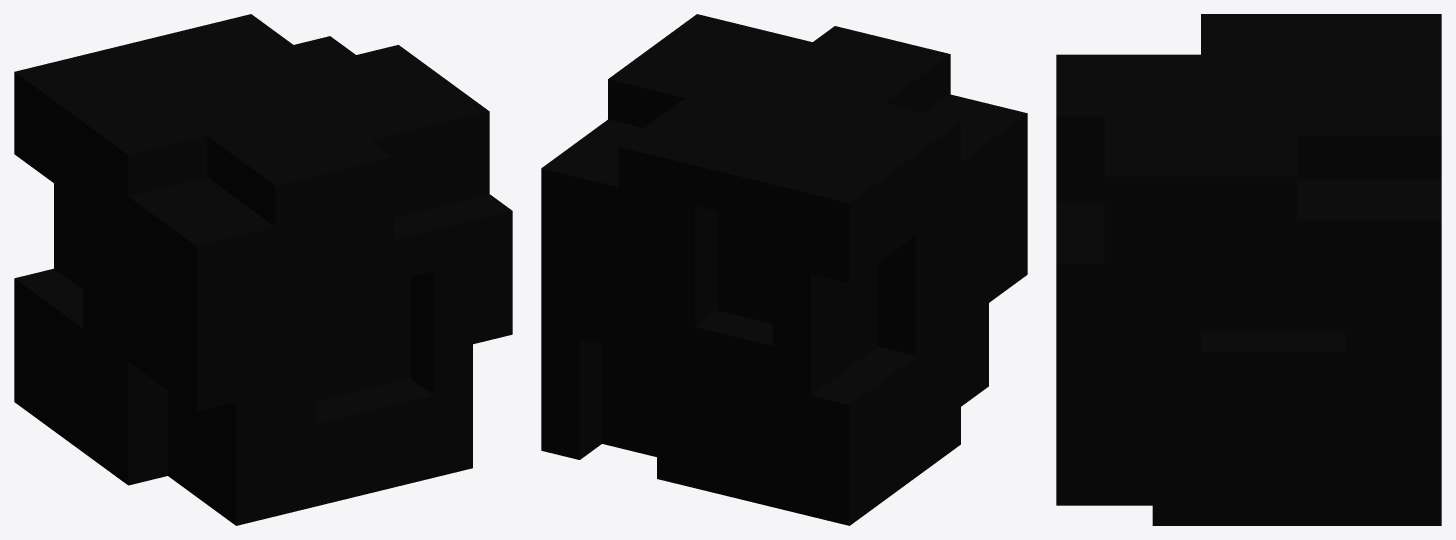
File: stone.glb
The picture shows the model from 3 angles, left to right: view 1: azimuth 30°, elevation 25°; view 2: azimuth 150°, elevation 25°; view 3: azimuth 270°, elevation 25°; orthographic projection. The views are drawn at different scales.
Parts seen in each view (by area): view 1: node0; view 2: node0; view 3: node0.
Part boxes in pixels (x1,y1,x2,y2): node0: (14, 14, 512, 525); node0: (541, 14, 1027, 525); node0: (1056, 14, 1441, 525).
Bounding box in the file's own units: 0.8 × 0.8 × 0.8.
1 material, 1 textured.
